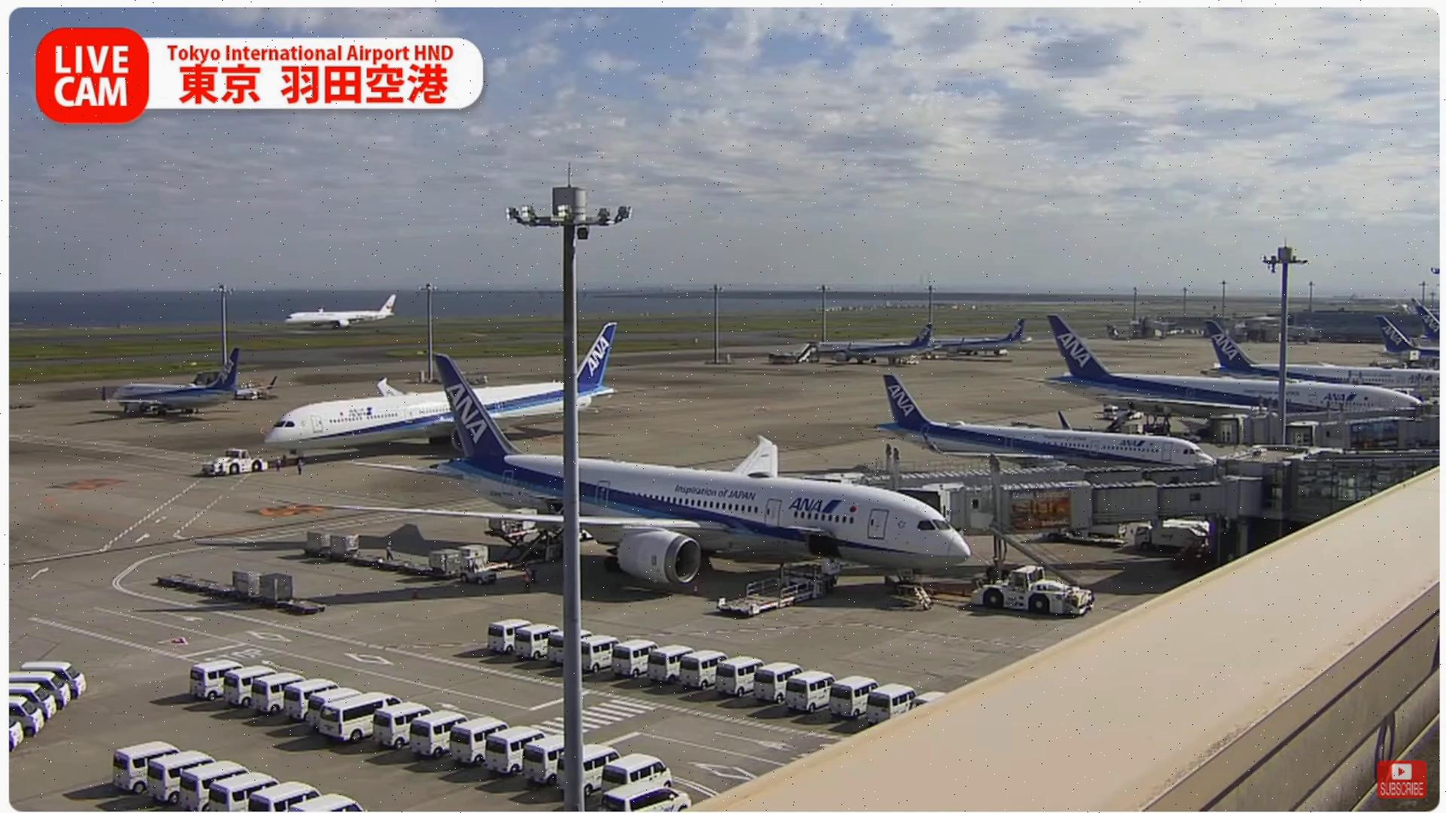APS: (969, 564, 1106, 619)
Aerobridge: (896, 476, 1261, 541), (843, 457, 1217, 496)
Airplane: (330, 354, 973, 599)
Dolly: (301, 529, 474, 579), (159, 569, 329, 616)
JCPL: (714, 553, 842, 618), (452, 517, 566, 574)
Tractor: (462, 555, 498, 585)
Window: (1290, 456, 1440, 523)
